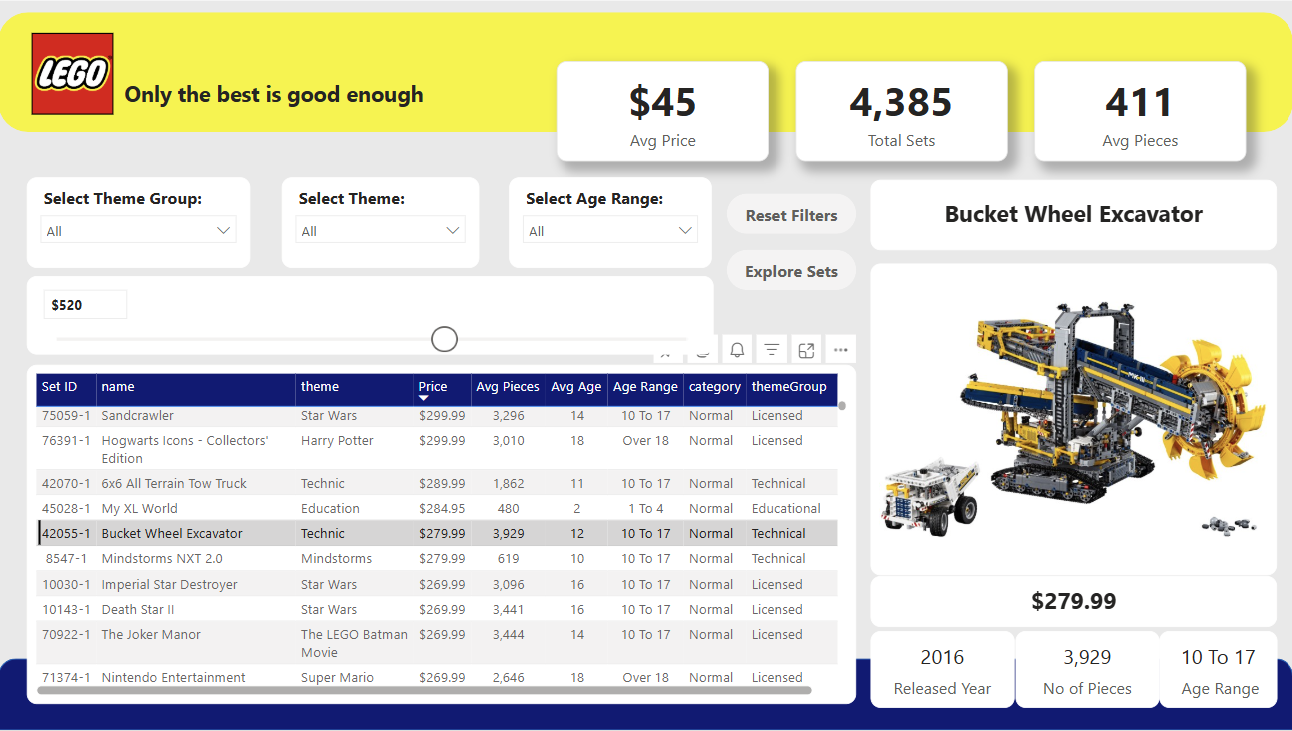

The page's visual inventory and layout, read from the dashboard file:
{"tool":"powerbi","page":{"name":"Home","canvas":[1280,720],"ordinal":0},"visuals":[{"type":"shape","box":[0,10.9,1280,118.2],"z":0},{"type":"image","box":[29,23.2,90.5,96.5],"z":1000},{"type":"shape","box":[0,649.1,1280,71.2],"z":2000},{"type":"card","fields":{"Values":["Measure Table.Total Sets"]},"box":[788.2,59.1,209.9,98.9],"z":3000},{"type":"card","fields":{"Values":["Measure Table.Avg Price"]},"box":[552.3,59.1,209.9,98.9],"z":4000},{"type":"card","fields":{"Values":["Measure Table.Avg Pieces"]},"box":[1024.1,59.1,209.9,98.9],"z":5000},{"type":"slicer","fields":{"Values":["TBL_lego.themeGroup"]},"box":[28.8,173.5,220.8,89.3],"z":6000},{"type":"slicer","fields":{"Values":["TBL_lego.theme"]},"box":[279.7,173.5,195.4,89.3],"z":7000},{"type":"slicer","fields":{"Values":["TBL_lego.Age Range"]},"box":[505.3,173.5,200.3,89.3],"z":8000},{"type":"tableEx","fields":{"Values":["TBL_lego.set_id","TBL_lego.name","TBL_lego.theme","TBL_lego.Price","Measure Table.Avg Pieces","Measure Table.Avg Age","TBL_lego.Age Range","TBL_lego.category","TBL_lego.themeGroup"]},"box":[29,359.5,819.2,335.4],"z":9000},{"type":"simpleImageEBC4593F96F1425FB3D84C5BF02B5075","fields":{"imageURL":["TBL_lego.imageURL"]},"box":[862.1,259.9,401.7,307.6],"z":10000},{"type":"card","fields":{"Values":["Measure Table.Selected Name"]},"box":[862.1,176.6,401.7,70],"z":11000},{"type":"card","fields":{"Values":["Measure Table.Selected Year"]},"box":[862.1,621.8,142.4,76],"z":12000},{"type":"card","fields":{"Values":["Measure Table.Selected Pieces"]},"box":[1004.5,621.8,142.4,76],"z":13000},{"type":"card","fields":{"Values":["Measure Table.Selected Age Range"]},"box":[1146.8,621.8,117,76],"z":14000},{"type":"card","fields":{"Values":["Measure Table.Selected Price"]},"box":[862.1,567.5,401.7,50.7],"z":15000},{"type":"textbox","box":[119.4,71.2,333,47.1],"z":16000},{"type":"slicer","fields":{"Values":["Max Price.Max Price"]},"box":[29,271.4,446.4,77.2],"z":17000},{"type":"actionButton","box":[720.2,175.9,127.9,39.8],"z":18000},{"type":"actionButton","box":[720.2,231.4,127.9,39.8],"z":19000},{"type":"textFilter25A4896A83E0487089E2B90C9AE57C8A","fields":{"field":["TBL_lego.name"]},"box":[505.5,285.9,342.6,63.9],"z":20000}]}

Visuals, with their boxes in screenshot pixels (x1, y1, x2, y2), scaled from the page's 1280x720 canvas onto the 1292x731 screenshot:
shape: crop(0, 11, 1291, 131)
image: crop(29, 24, 121, 122)
shape: crop(0, 659, 1291, 730)
card - Measure Table.Total Sets: crop(796, 60, 1007, 160)
card - Measure Table.Avg Price: crop(557, 60, 769, 160)
card - Measure Table.Avg Pieces: crop(1034, 60, 1246, 160)
slicer - TBL_lego.themeGroup: crop(29, 176, 252, 267)
slicer - TBL_lego.theme: crop(282, 176, 480, 267)
slicer - TBL_lego.Age Range: crop(510, 176, 712, 267)
tableEx - TBL_lego.set_id x TBL_lego.name: crop(29, 365, 856, 706)
simpleImageEBC4593F96F1425FB3D84C5BF02B5075 - TBL_lego.imageURL: crop(870, 264, 1276, 576)
card - Measure Table.Selected Name: crop(870, 179, 1276, 250)
card - Measure Table.Selected Year: crop(870, 631, 1014, 708)
card - Measure Table.Selected Pieces: crop(1014, 631, 1158, 708)
card - Measure Table.Selected Age Range: crop(1158, 631, 1276, 708)
card - Measure Table.Selected Price: crop(870, 576, 1276, 628)
textbox: crop(121, 72, 457, 120)
slicer - Max Price.Max Price: crop(29, 276, 480, 354)
actionButton: crop(727, 179, 856, 219)
actionButton: crop(727, 235, 856, 275)
textFilter25A4896A83E0487089E2B90C9AE57C8A - TBL_lego.name: crop(510, 290, 856, 355)
